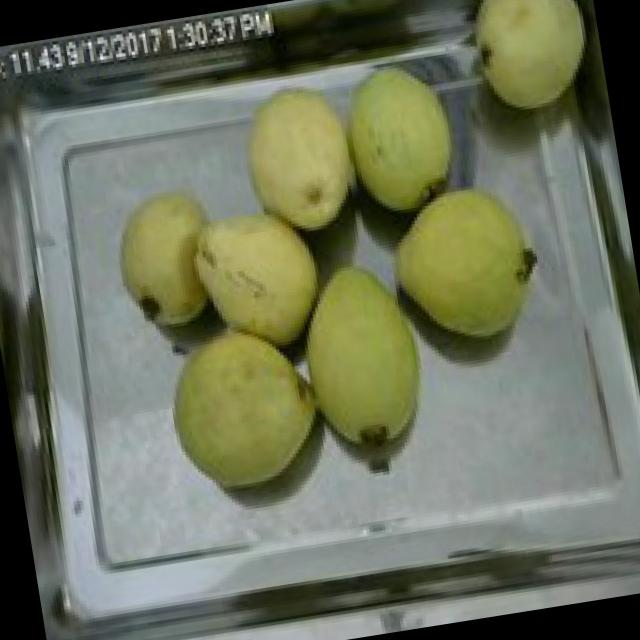Fruit: (370, 163, 562, 360), (154, 312, 336, 504), (280, 250, 443, 464), (325, 43, 478, 234), (224, 63, 375, 253), (177, 194, 340, 368), (98, 171, 240, 342), (453, 0, 606, 127)
